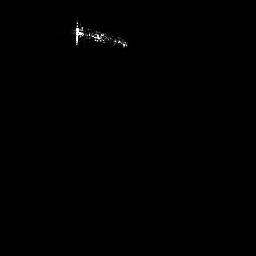ship: (72, 18, 128, 49)
